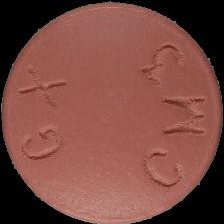0173-0675: (0, 0, 224, 224)
